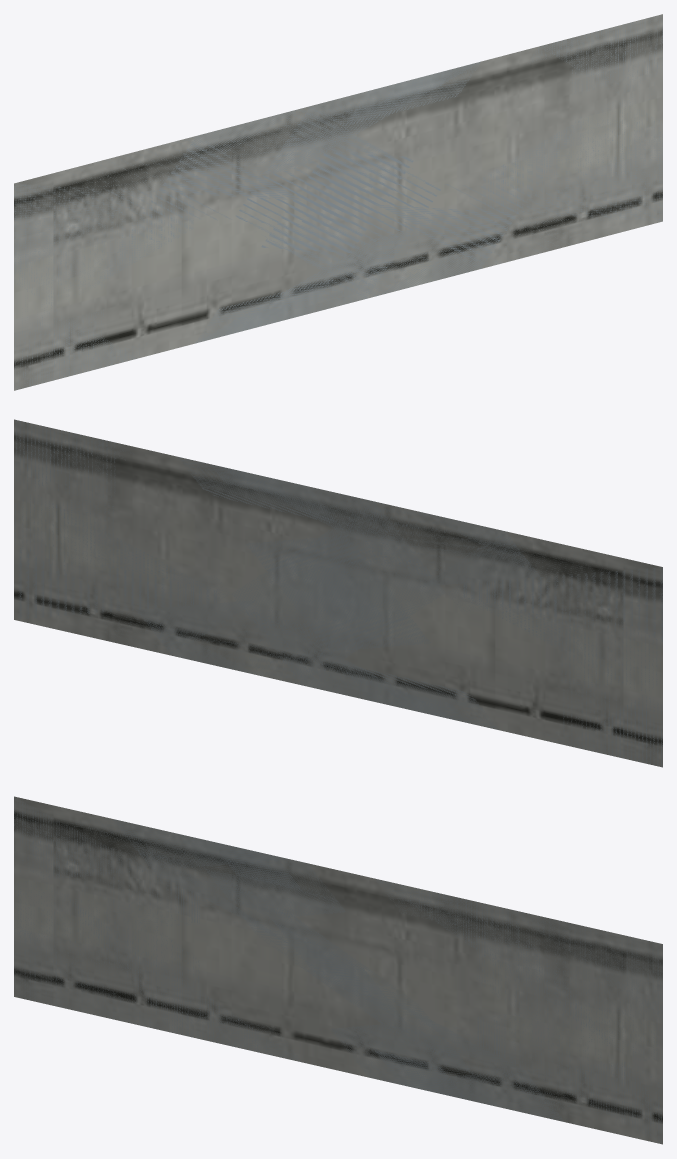
Rendered from 人民英雄纪念碑27.dae.
3 renders of one model, top to bottom at view 1: azimuth 30°, elevation 25°; view 2: azimuth 150°, elevation 25°; view 3: azimuth 330°, elevation 25°, orthographic. The views are drawn at different scales.
Visible parts, largest first — view 1: SketchUp; view 2: SketchUp; view 3: SketchUp.
Part boxes in pixels (x1,y1,x2,y2): SketchUp: [14, 14, 662, 390]; SketchUp: [14, 419, 662, 767]; SketchUp: [14, 796, 662, 1144].
Bounding box in the file's own units: 236 × 7.01 × 70.87.
